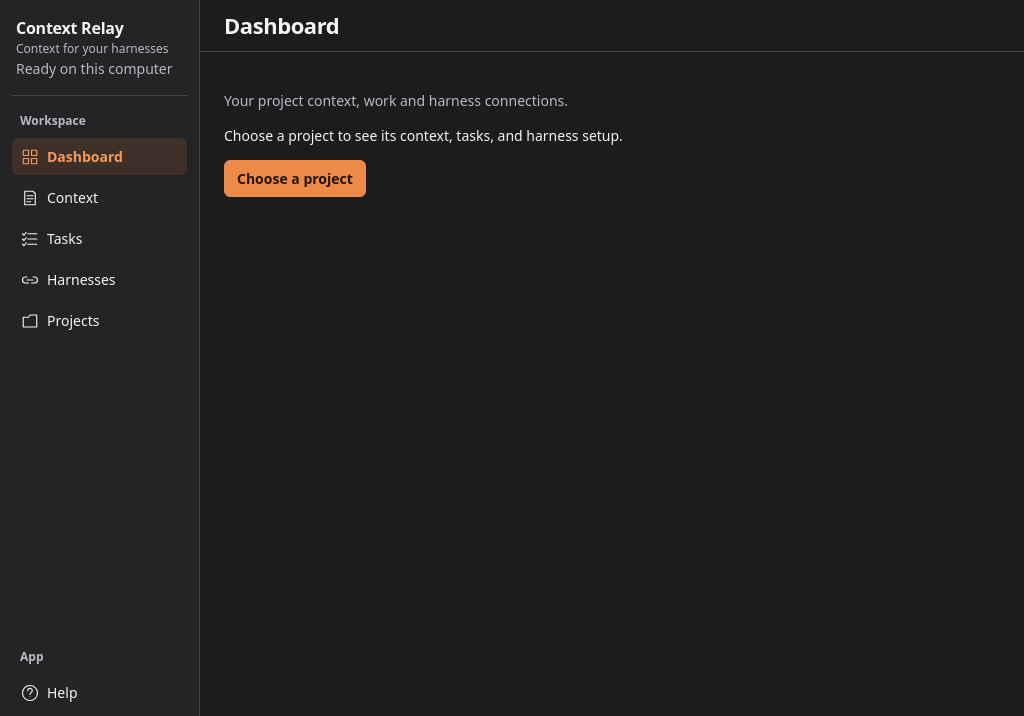
Test case: App › reports associated validation errors without echoing submitted plaintext
This screenshot has width=1024, height=716.
Expected: the text "Ready on this computer" is shown, [16,59,173,78]
Click the button "Context" at (100, 198), box [12,179,187,216]
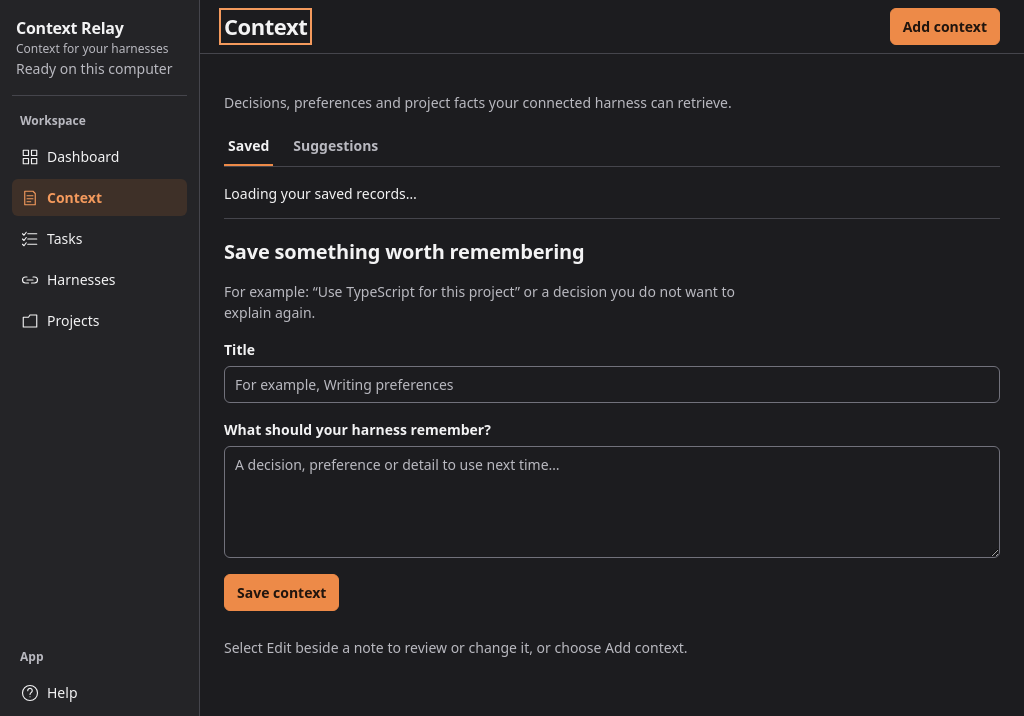
Click the button "Add context" at (945, 26), box [890,8,1000,45]
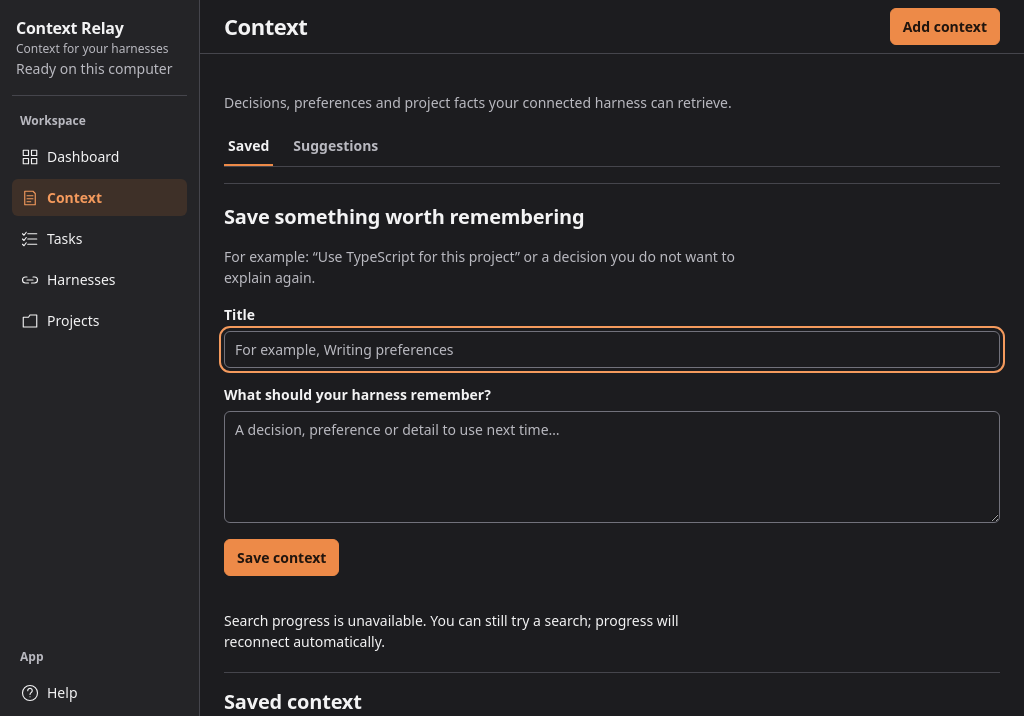
Submit the form named "New context", box [224,204,1000,576]
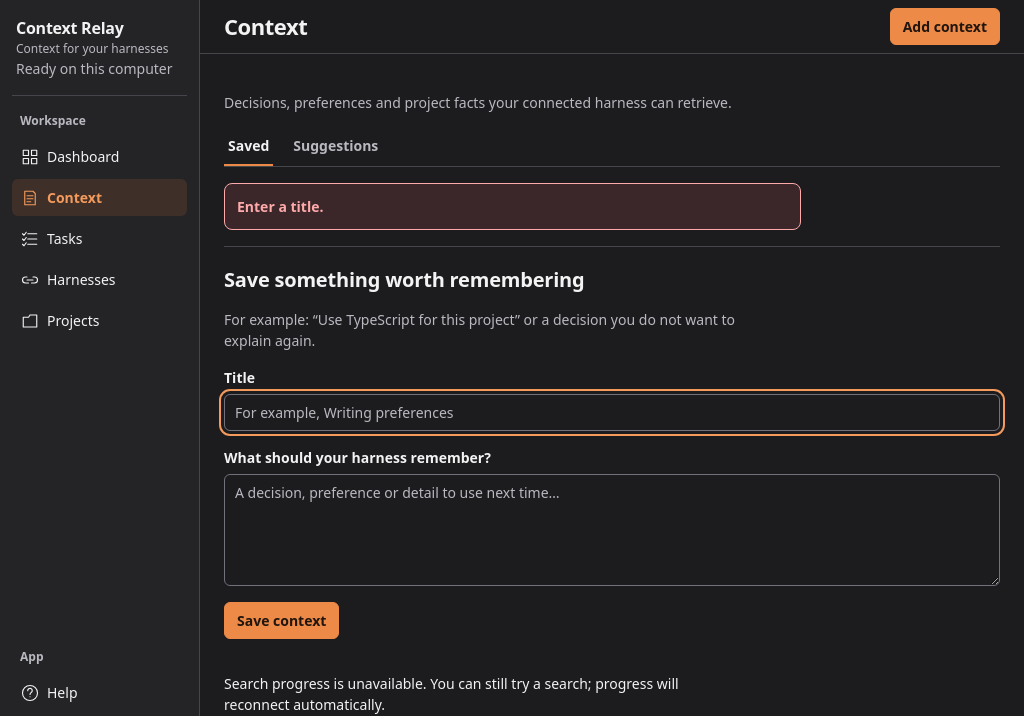
Expected: the message "Enter a title." does not show "Saved context", [224,183,801,230]
Result: the message "Enter a title." is shown at [224,183,801,230]
